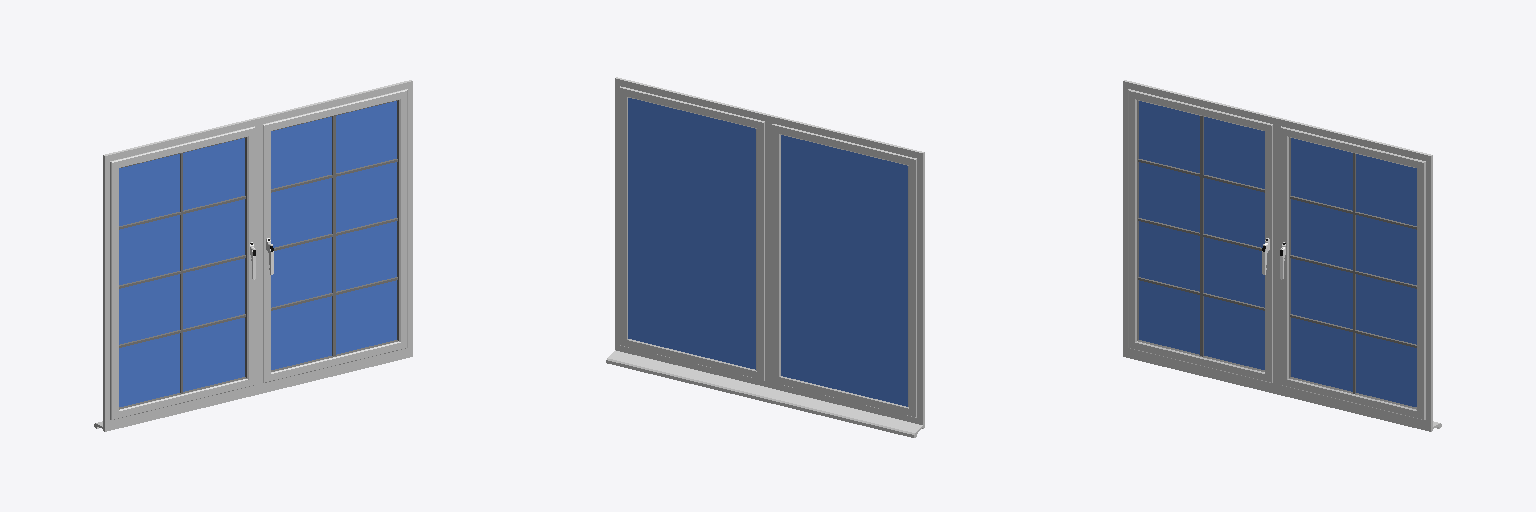
File: u246bfc1a-8542-4f7d-8f53-8c48101832db1.obj
3 views of the same model, side by side, from view 1: azimuth 30°, elevation 25°; view 2: azimuth 150°, elevation 25°; view 3: azimuth 330°, elevation 25° (orthographic).
Visible parts, largest first — view 1: Mesh8_Glass2_Component_1_2_Component_2_1_Model.001, Mesh3_Glass1_Component_1_1_Component_2_1_Model.001, Mesh11_Component_2_1_Model, Mesh1_Frame1_Component_1_1_Component_2_1_Model.001, Mesh6_Frame2_Component_1_2_Component_2_1_Model, Mesh5_Component_1_1_Component_2_1_Model, Mesh10_Component_1_2_Component_2_1_Model; view 2: Mesh3_Glass1_Component_1_1_Component_2_1_Model.001, Mesh8_Glass2_Component_1_2_Component_2_1_Model.001, Mesh11_Component_2_1_Model, Mesh6_Frame2_Component_1_2_Component_2_1_Model, Mesh1_Frame1_Component_1_1_Component_2_1_Model.001; view 3: Mesh3_Glass1_Component_1_1_Component_2_1_Model.001, Mesh8_Glass2_Component_1_2_Component_2_1_Model.001, Mesh11_Component_2_1_Model, Mesh6_Frame2_Component_1_2_Component_2_1_Model, Mesh1_Frame1_Component_1_1_Component_2_1_Model.001, Mesh10_Component_1_2_Component_2_1_Model, Mesh5_Component_1_1_Component_2_1_Model.
Boxes of the visible parts, <box> form: Mesh8_Glass2_Component_1_2_Component_2_1_Model.001: <box>119,138,244,406</box>; Mesh3_Glass1_Component_1_1_Component_2_1_Model.001: <box>271,101,396,369</box>; Mesh11_Component_2_1_Model: <box>94,80,412,431</box>; Mesh1_Frame1_Component_1_1_Component_2_1_Model.001: <box>263,89,407,382</box>; Mesh6_Frame2_Component_1_2_Component_2_1_Model: <box>110,126,254,419</box>; Mesh5_Component_1_1_Component_2_1_Model: <box>332,116,335,356</box>; Mesh10_Component_1_2_Component_2_1_Model: <box>180,153,182,393</box>; Mesh3_Glass1_Component_1_1_Component_2_1_Model.001: <box>628,98,755,369</box>; Mesh8_Glass2_Component_1_2_Component_2_1_Model.001: <box>781,135,907,406</box>; Mesh11_Component_2_1_Model: <box>606,77,924,437</box>; Mesh6_Frame2_Component_1_2_Component_2_1_Model: <box>772,124,916,417</box>; Mesh1_Frame1_Component_1_1_Component_2_1_Model.001: <box>620,86,764,380</box>; Mesh3_Glass1_Component_1_1_Component_2_1_Model.001: <box>1291,138,1416,406</box>; Mesh8_Glass2_Component_1_2_Component_2_1_Model.001: <box>1139,101,1264,369</box>; Mesh11_Component_2_1_Model: <box>1123,80,1441,431</box>; Mesh6_Frame2_Component_1_2_Component_2_1_Model: <box>1128,89,1272,382</box>; Mesh1_Frame1_Component_1_1_Component_2_1_Model.001: <box>1281,126,1425,419</box>; Mesh10_Component_1_2_Component_2_1_Model: <box>1200,116,1203,356</box>; Mesh5_Component_1_1_Component_2_1_Model: <box>1353,153,1355,393</box>.
Bounding box in the file's own units: 4.44 × 3.84 × 0.3771.